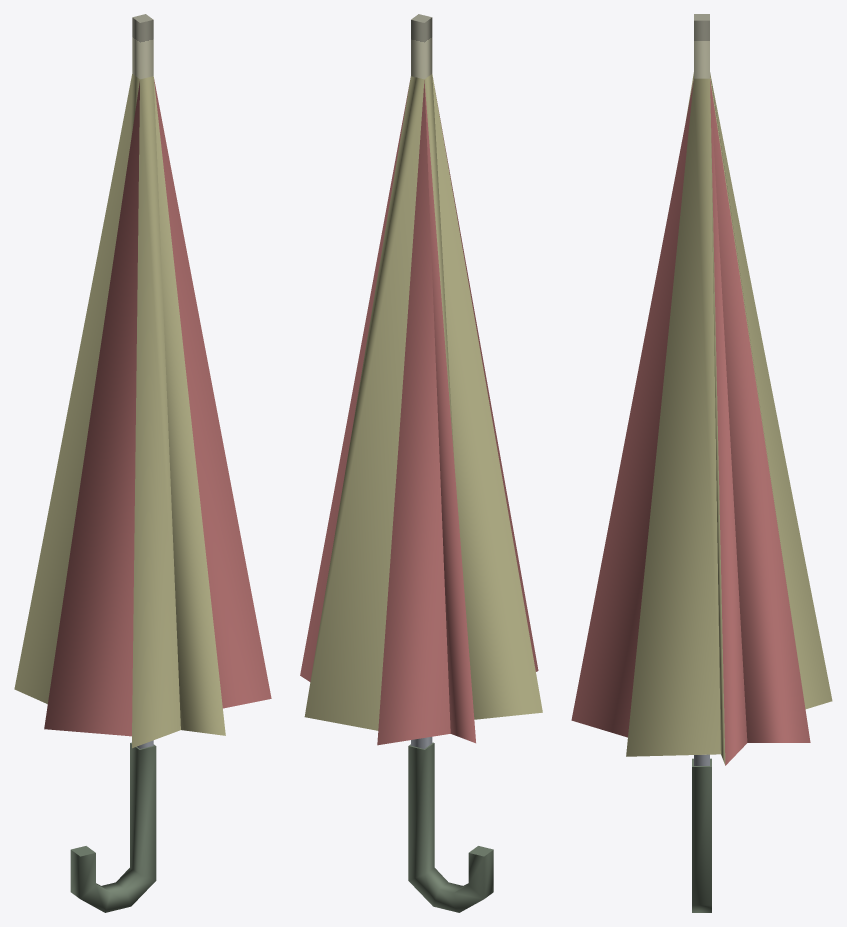
Rendered from 00c1_Jumbo_Umbrella.glb.
3 views of the same model, side by side, from view 1: azimuth 30°, elevation 25°; view 2: azimuth 150°, elevation 25°; view 3: azimuth 270°, elevation 25° (orthographic). The views are drawn at different scales.
Parts seen in each view (by area): view 1: part_0; view 2: part_0; view 3: part_0.
Boxes of the visible parts, x1,y1,x2,y2 form: part_0: (14, 14, 271, 912); part_0: (300, 14, 542, 912); part_0: (571, 14, 832, 912).
Bounding box in the file's own units: 0.6888 × 2.63 × 0.689.
Materials: 1 (1 with a texture image).
